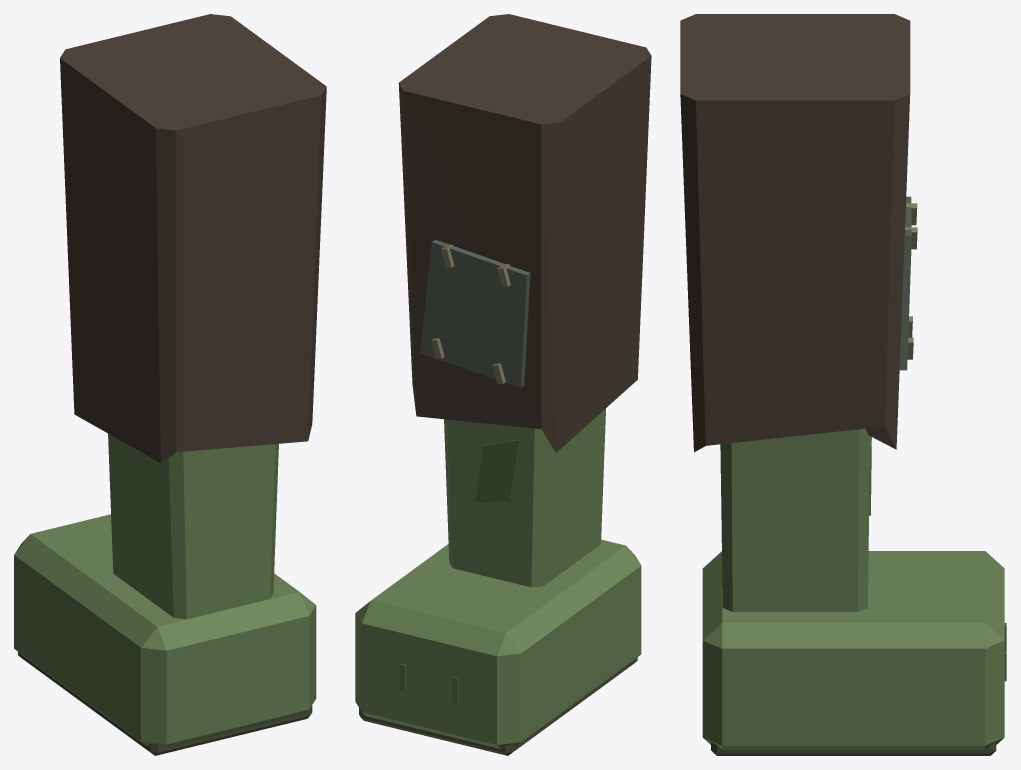
The model's file is LegRight.glb.
The picture shows the model from 3 angles, left to right: view 1: azimuth 30°, elevation 25°; view 2: azimuth 150°, elevation 25°; view 3: azimuth 270°, elevation 25°; orthographic projection. The views are drawn at different scales.
Visible parts, largest first — view 1: Sculpture; view 2: Sculpture; view 3: Sculpture.
Part boxes in pixels (<box>): Sculpture: <box>14,14,326,755</box>; Sculpture: <box>355,14,651,755</box>; Sculpture: <box>680,14,1006,755</box>.
Bounding box in the file's own units: 0.215 × 0.75 × 0.335.
